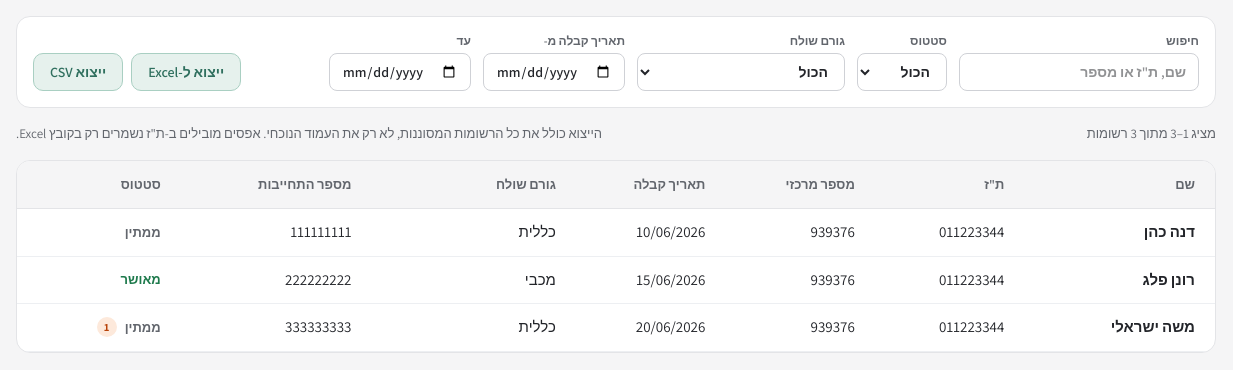
Test: RecordsView: filters › filters by status
expect the message does not show "טוען": met, box [1087,124,1216,144]
Select "מאושר" in the dropdown labelled "סטטוס" at (902, 72), box [857,53,947,91]
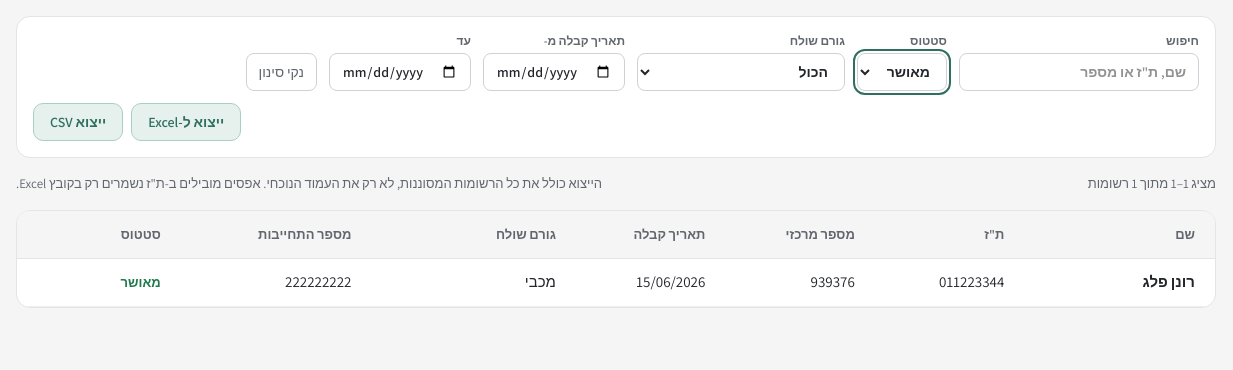
expect the button "רונן פלג 011223344 939376 15/06/2026 מכבי 222222222 מאושר" is shown: met, box [17,259,1215,306]
expect the message shows "מתוך 1 רשומות": met, box [1088,175,1216,192]
